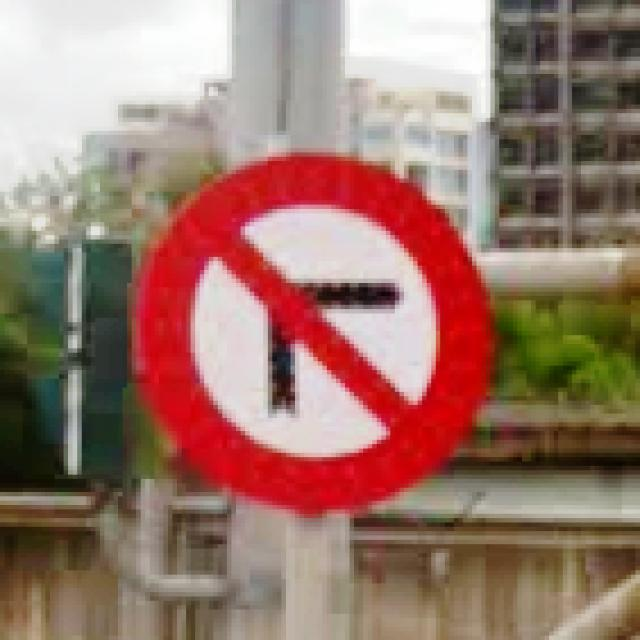noturnright: (127, 144, 495, 514)
